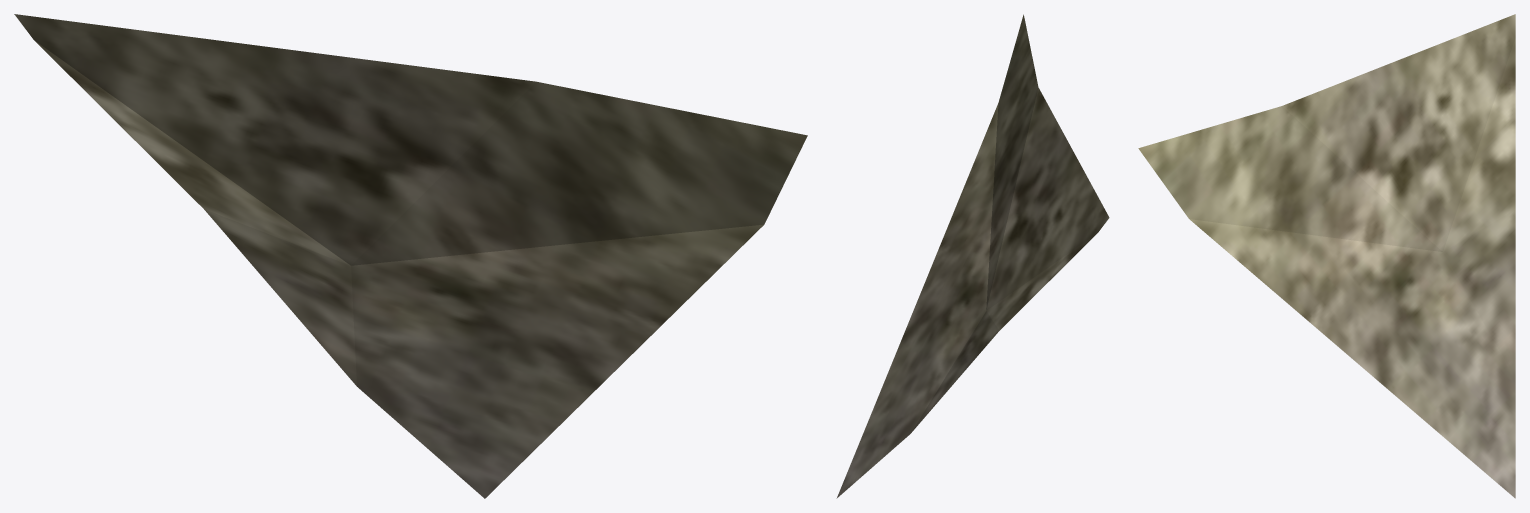
3 renders of one model, left to right at view 1: azimuth 30°, elevation 25°; view 2: azimuth 150°, elevation 25°; view 3: azimuth 270°, elevation 25°, orthographic. The views are drawn at different scales.
Size of the model in its own units: 1.25 by 1.52 by 1.48.
1 material, 1 textured.
